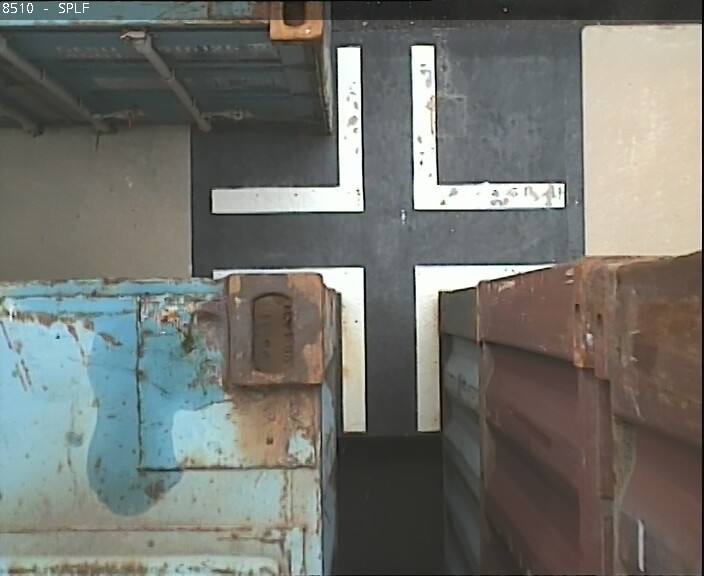groundmarker_1: (211, 268, 578, 431), (213, 44, 565, 211)
